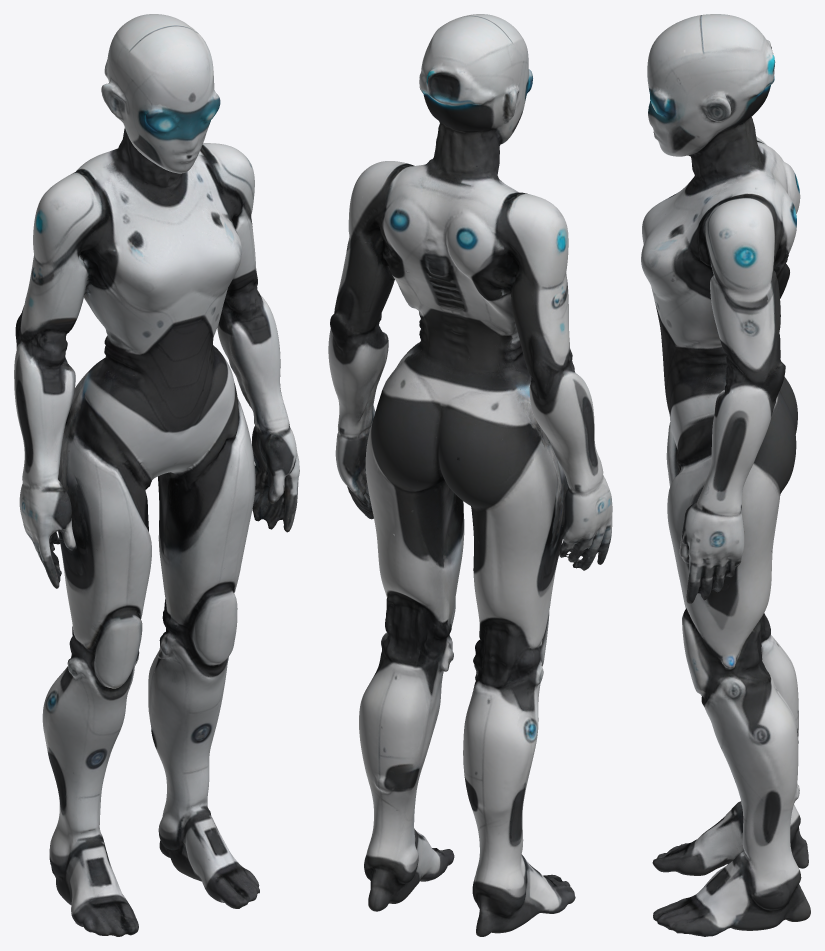
Rendered from Meshy_AI_Ultra_advanced_humano_0506085111_texture.glb.
3 renders of one model, left to right at view 1: azimuth 30°, elevation 25°; view 2: azimuth 150°, elevation 25°; view 3: azimuth 270°, elevation 25°, orthographic.
Size of the model in its own units: 0.6312 by 2 by 0.3502.
1 material, 1 textured.
